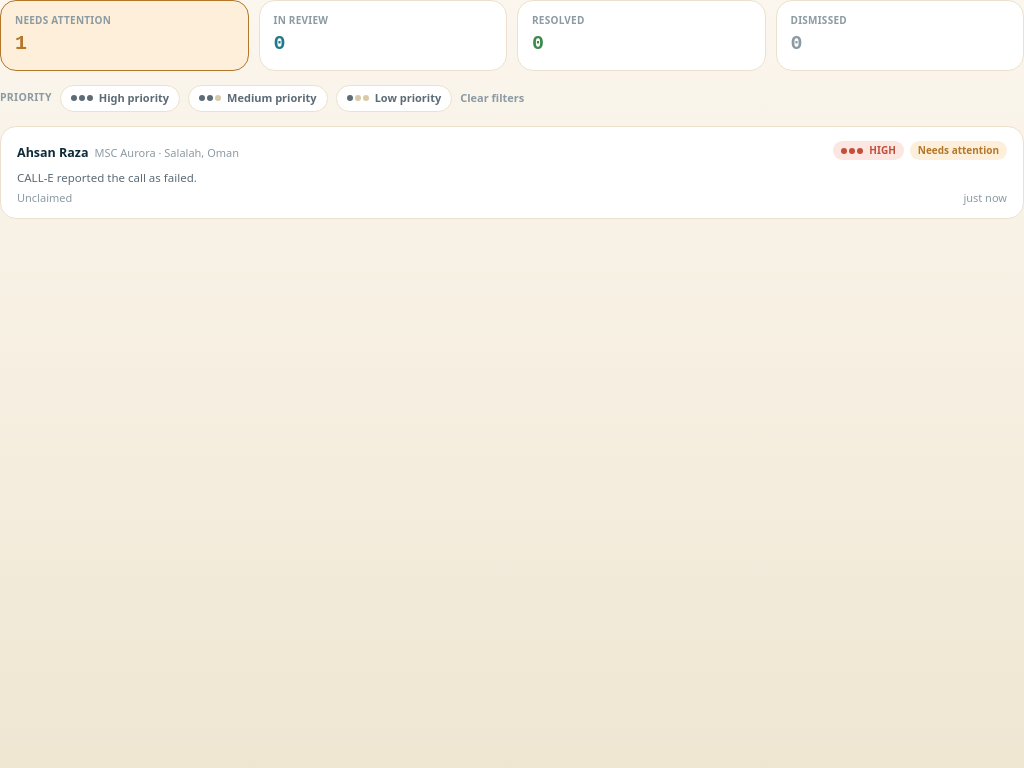
Test: YellowZonePage — claim flow and the modal-staleness regression › handles a 409 claim race by showing a friendly message and the item's current claimed state
Step 1. Click the text "Ahsan Raza" → [53, 152], box left=17, top=144, right=88, bottom=160
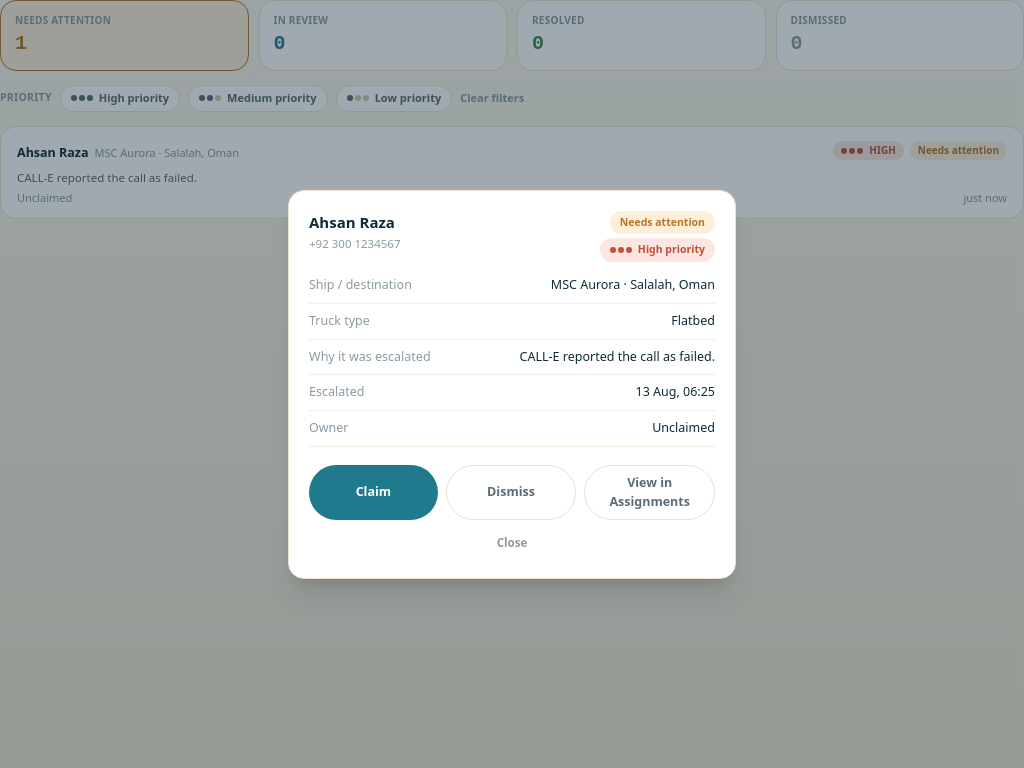
Step 2. Click the button "Claim" → [373, 493], box left=309, top=465, right=438, bottom=520
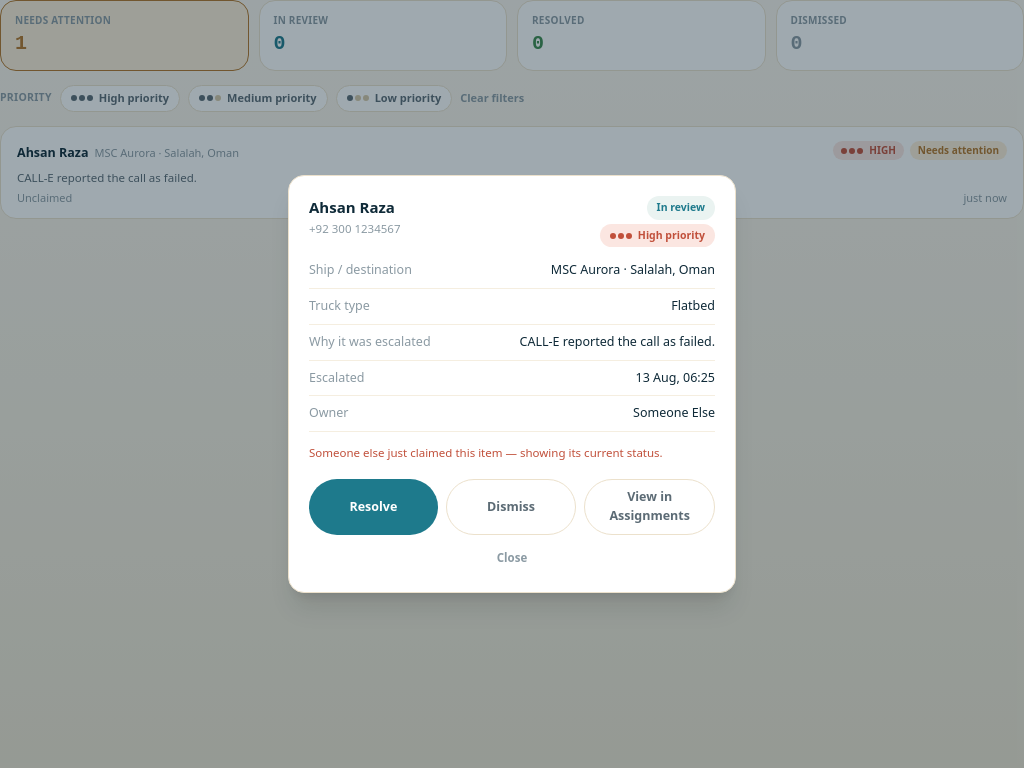
Now the text "Someone else just claimed this item — showing its current status." is shown, box left=309, top=444, right=715, bottom=461
Now the text "Someone Else" is shown, box left=633, top=404, right=715, bottom=423
